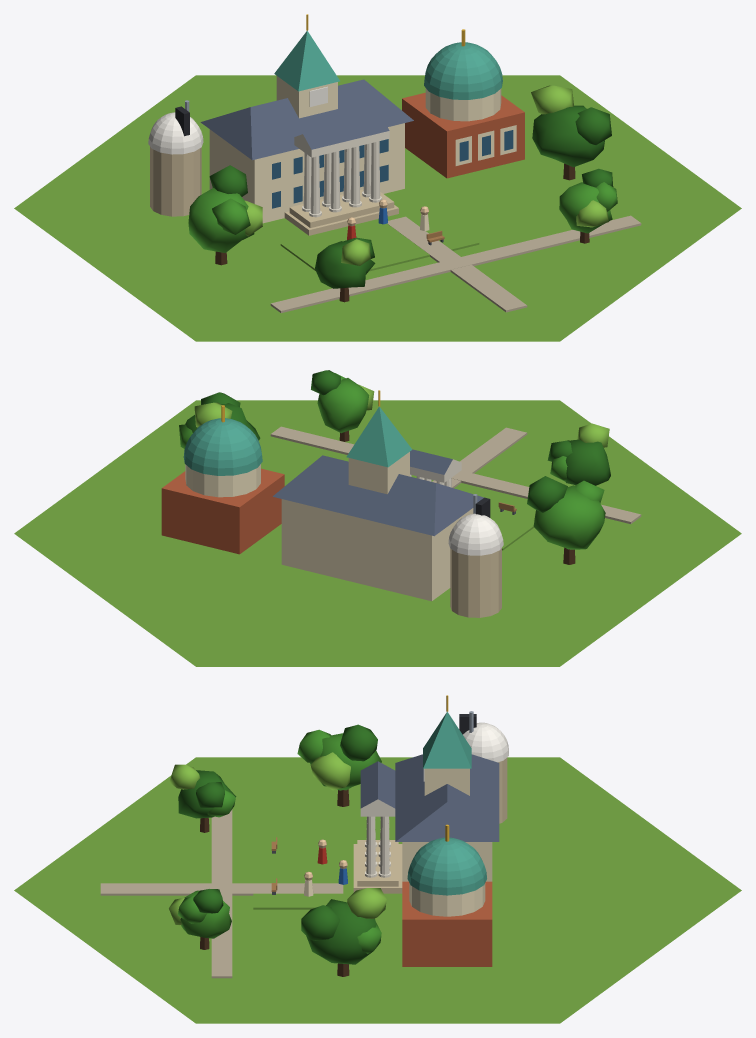
File: district_campus_2.fbx
3 renders of one model, top to bottom at view 1: azimuth 30°, elevation 25°; view 2: azimuth 150°, elevation 25°; view 3: azimuth 270°, elevation 25°, orthographic.
Visible parts, largest first — view 1: district_campus_2; view 2: district_campus_2; view 3: district_campus_2.
Boxes of the visible parts, bbox=[...] form: district_campus_2: bbox=[14, 14, 741, 341]; district_campus_2: bbox=[14, 370, 741, 666]; district_campus_2: bbox=[14, 695, 741, 1023].
Bounding box in the file's own units: 182 × 56.45 × 210.
